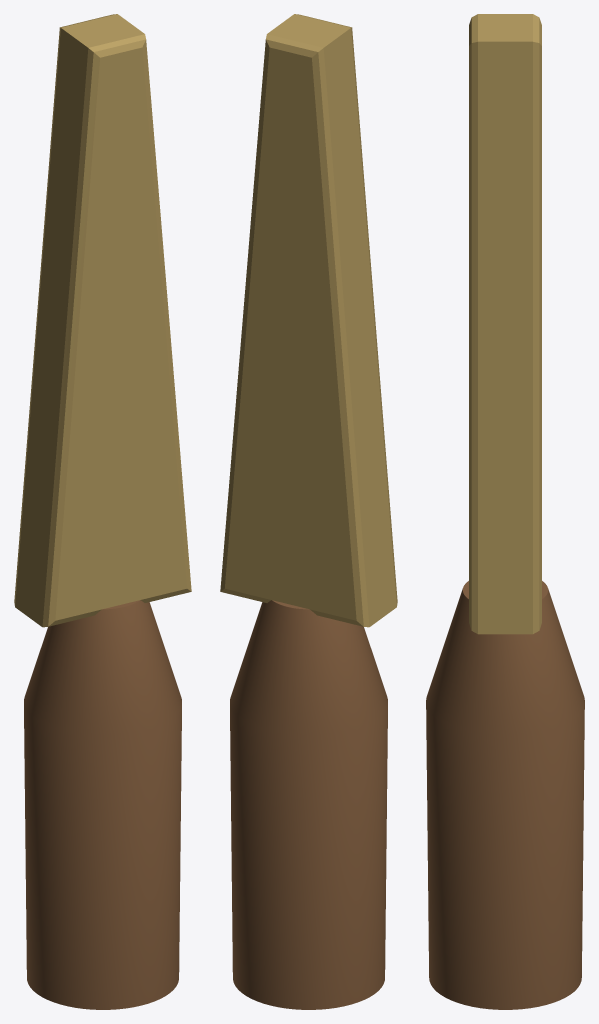
Rendered from fantasy-cartographers-map-printing-guild-plate-scraper-3b6ed1de__32251.glb.
3 renders of one model, left to right at view 1: azimuth 30°, elevation 25°; view 2: azimuth 150°, elevation 25°; view 3: azimuth 270°, elevation 25°, orthographic.
Parts seen in each view (by area): view 1: plate-scraper; view 2: plate-scraper; view 3: plate-scraper.
Boxes of the visible parts, x1,y1,x2,y2 form: plate-scraper: (14, 14, 191, 1009); plate-scraper: (220, 14, 397, 1009); plate-scraper: (426, 14, 584, 1009).
Size of the model in its own units: 0.0563 by 0.343 by 0.052.
